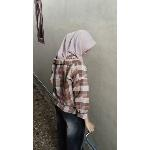Pisau: (78, 124, 95, 150)
